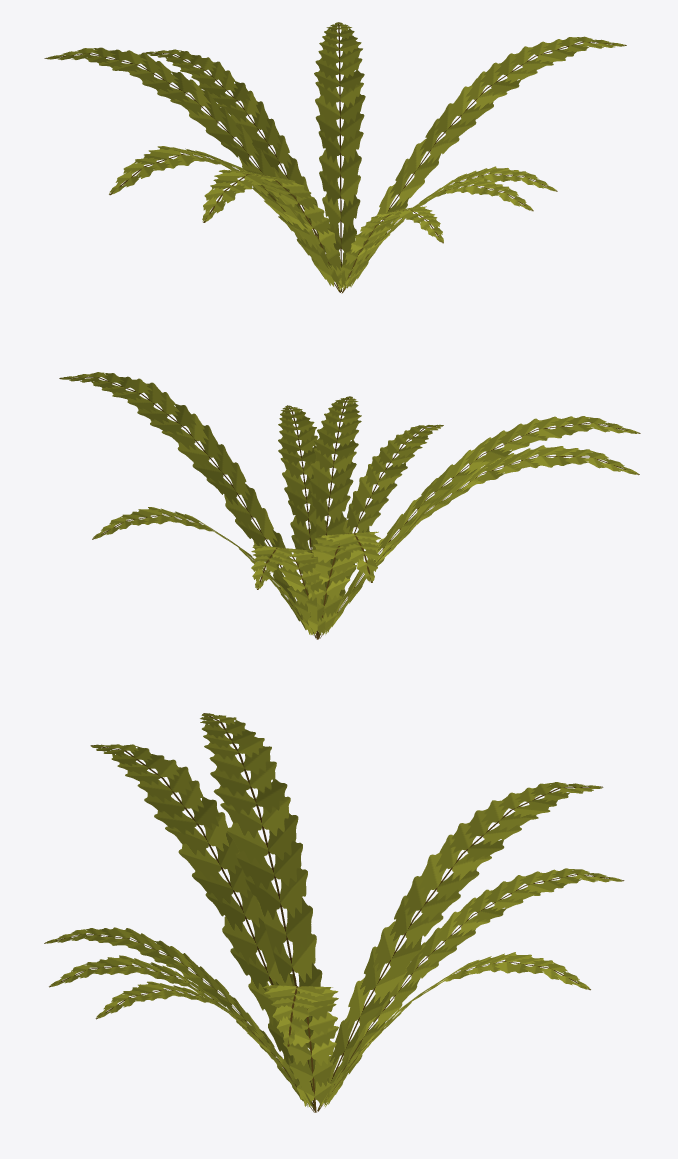
Rendered from fern_1_burnt1.glb.
The picture shows the model from 3 angles, top to bottom: view 1: azimuth 30°, elevation 25°; view 2: azimuth 150°, elevation 25°; view 3: azimuth 270°, elevation 25°; orthographic projection. The views are drawn at different scales.
Visible parts, largest first — view 1: fern_1_burnt1; view 2: fern_1_burnt1; view 3: fern_1_burnt1.
Boxes of the visible parts, x1,y1,x2,y2 form: fern_1_burnt1: [44, 22, 626, 293]; fern_1_burnt1: [59, 372, 640, 639]; fern_1_burnt1: [44, 713, 624, 1112].
Bounding box in the file's own units: 1.85 × 0.6493 × 1.5.
Materials: 1 (1 with a texture image).
